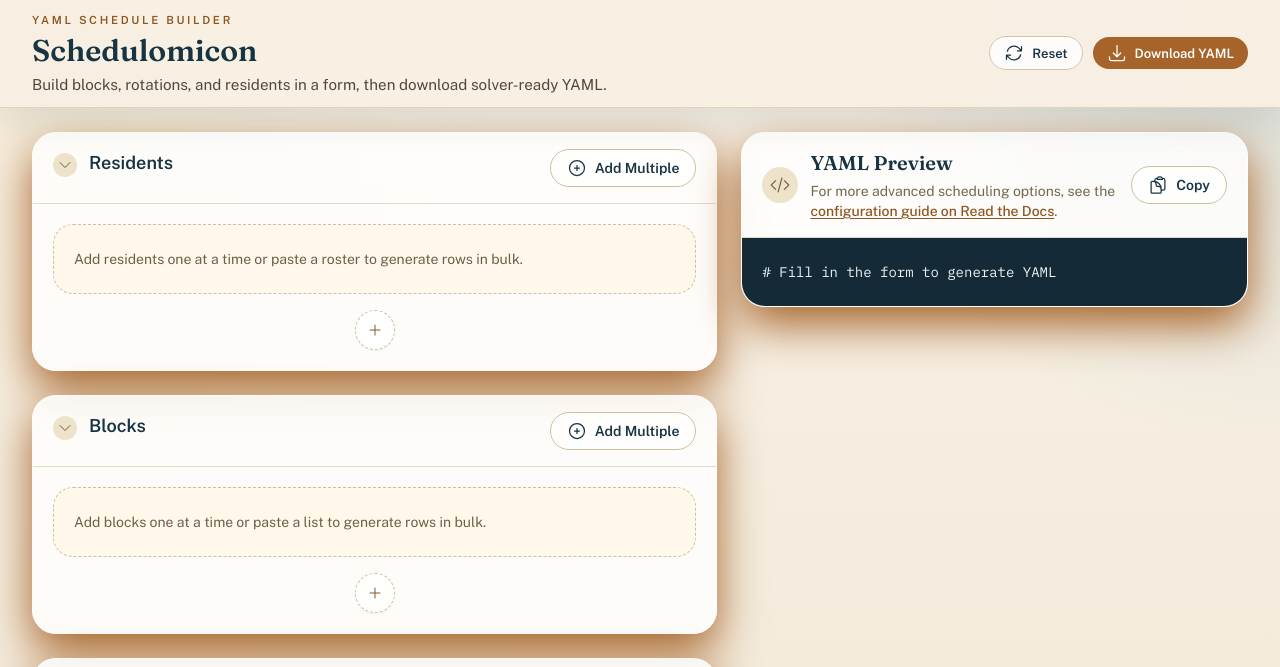
Test: App validation UI › deletes a collapsed row directly from the header
Click the button named "add resident" at x=375, y=330, box [355, 310, 395, 350]
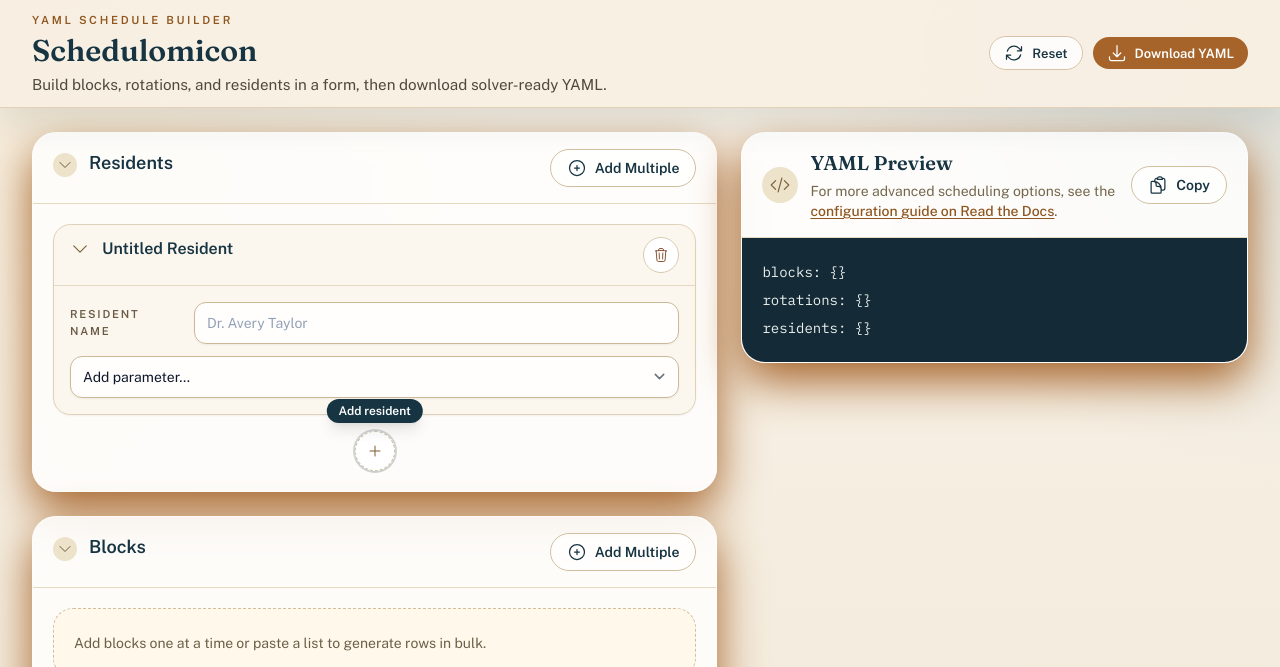
Type "Dr. Delete Me" into the field labelled "Resident Name" at x=437, y=323, box [194, 302, 679, 344]
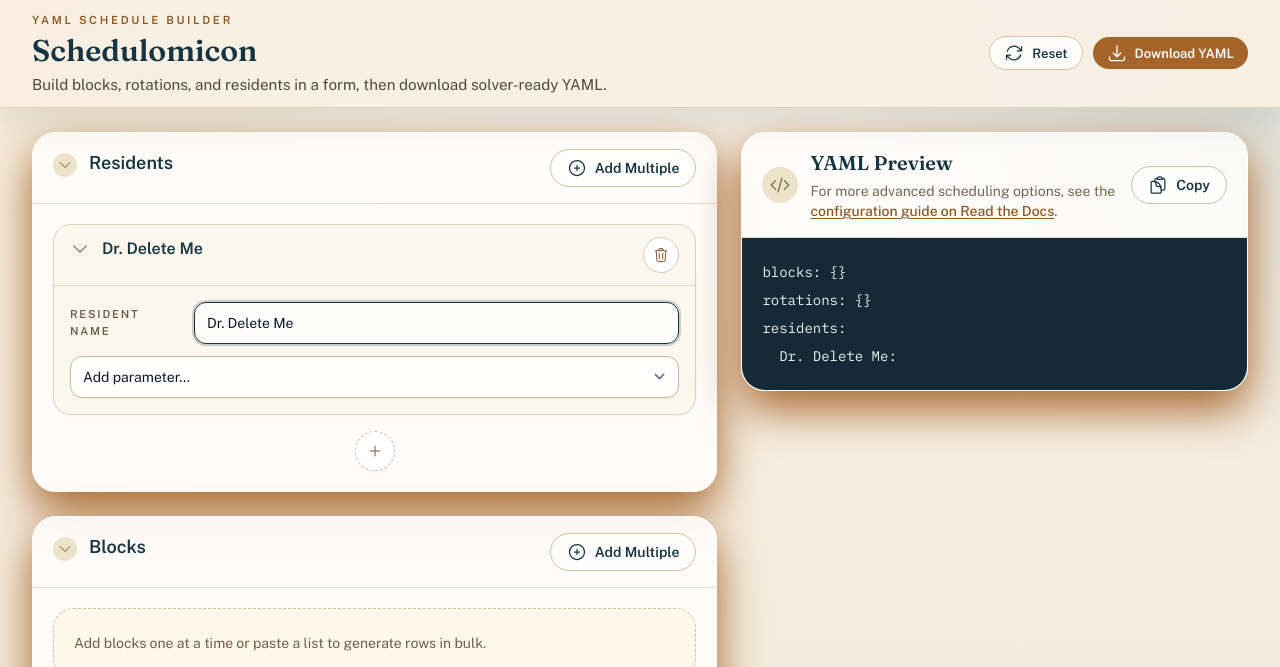
Click the button "Dr. Delete Me" at x=152, y=248, box [70, 237, 631, 261]
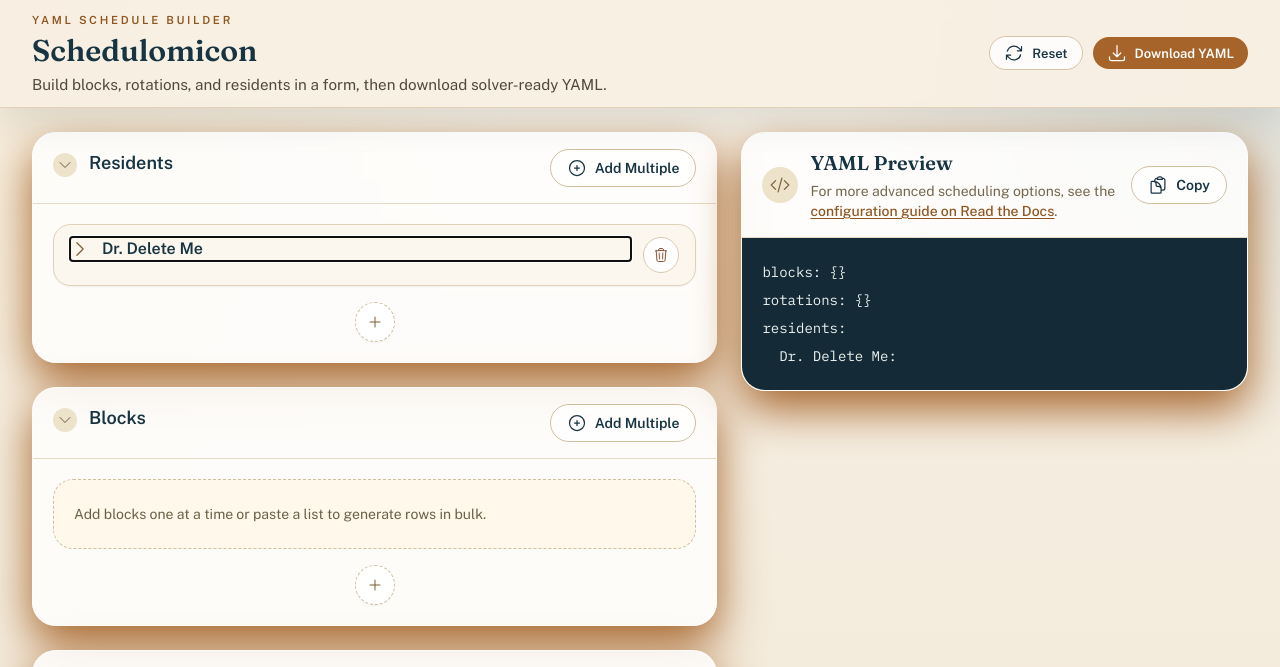
expect the text labelled "Resident Name" is gone: met
Click the button named "delete row" at x=661, y=255, box [643, 237, 679, 273]
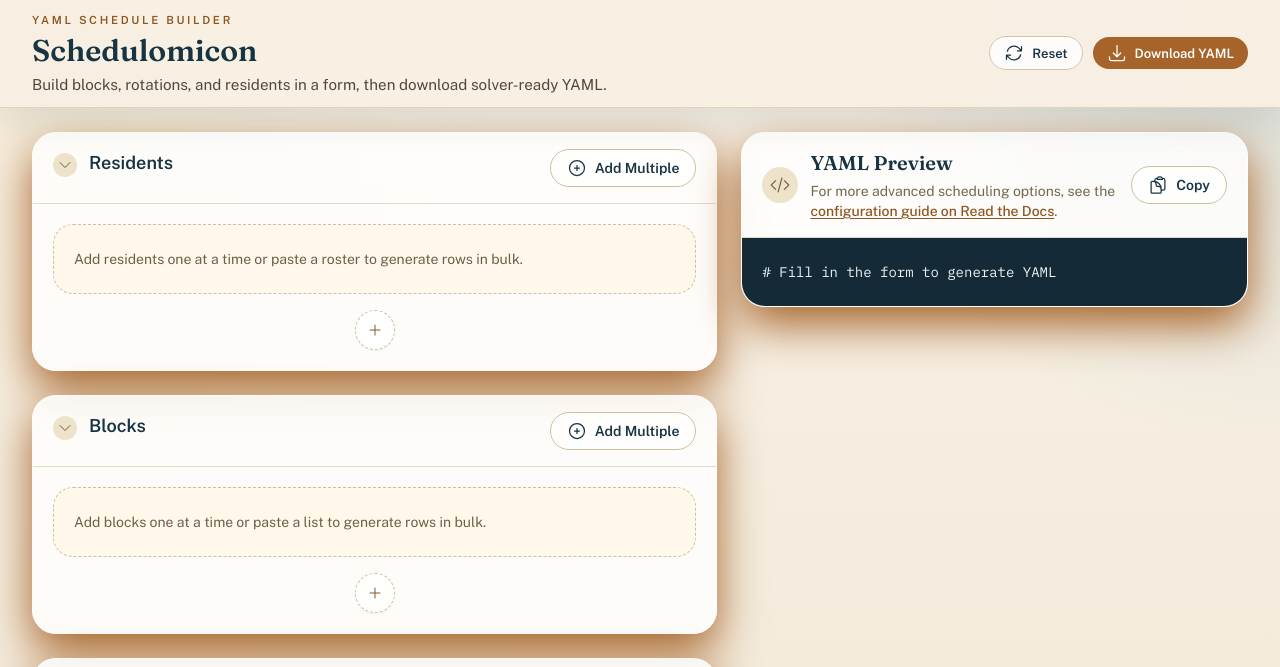
expect the button "Dr. Delete Me" is gone: met
